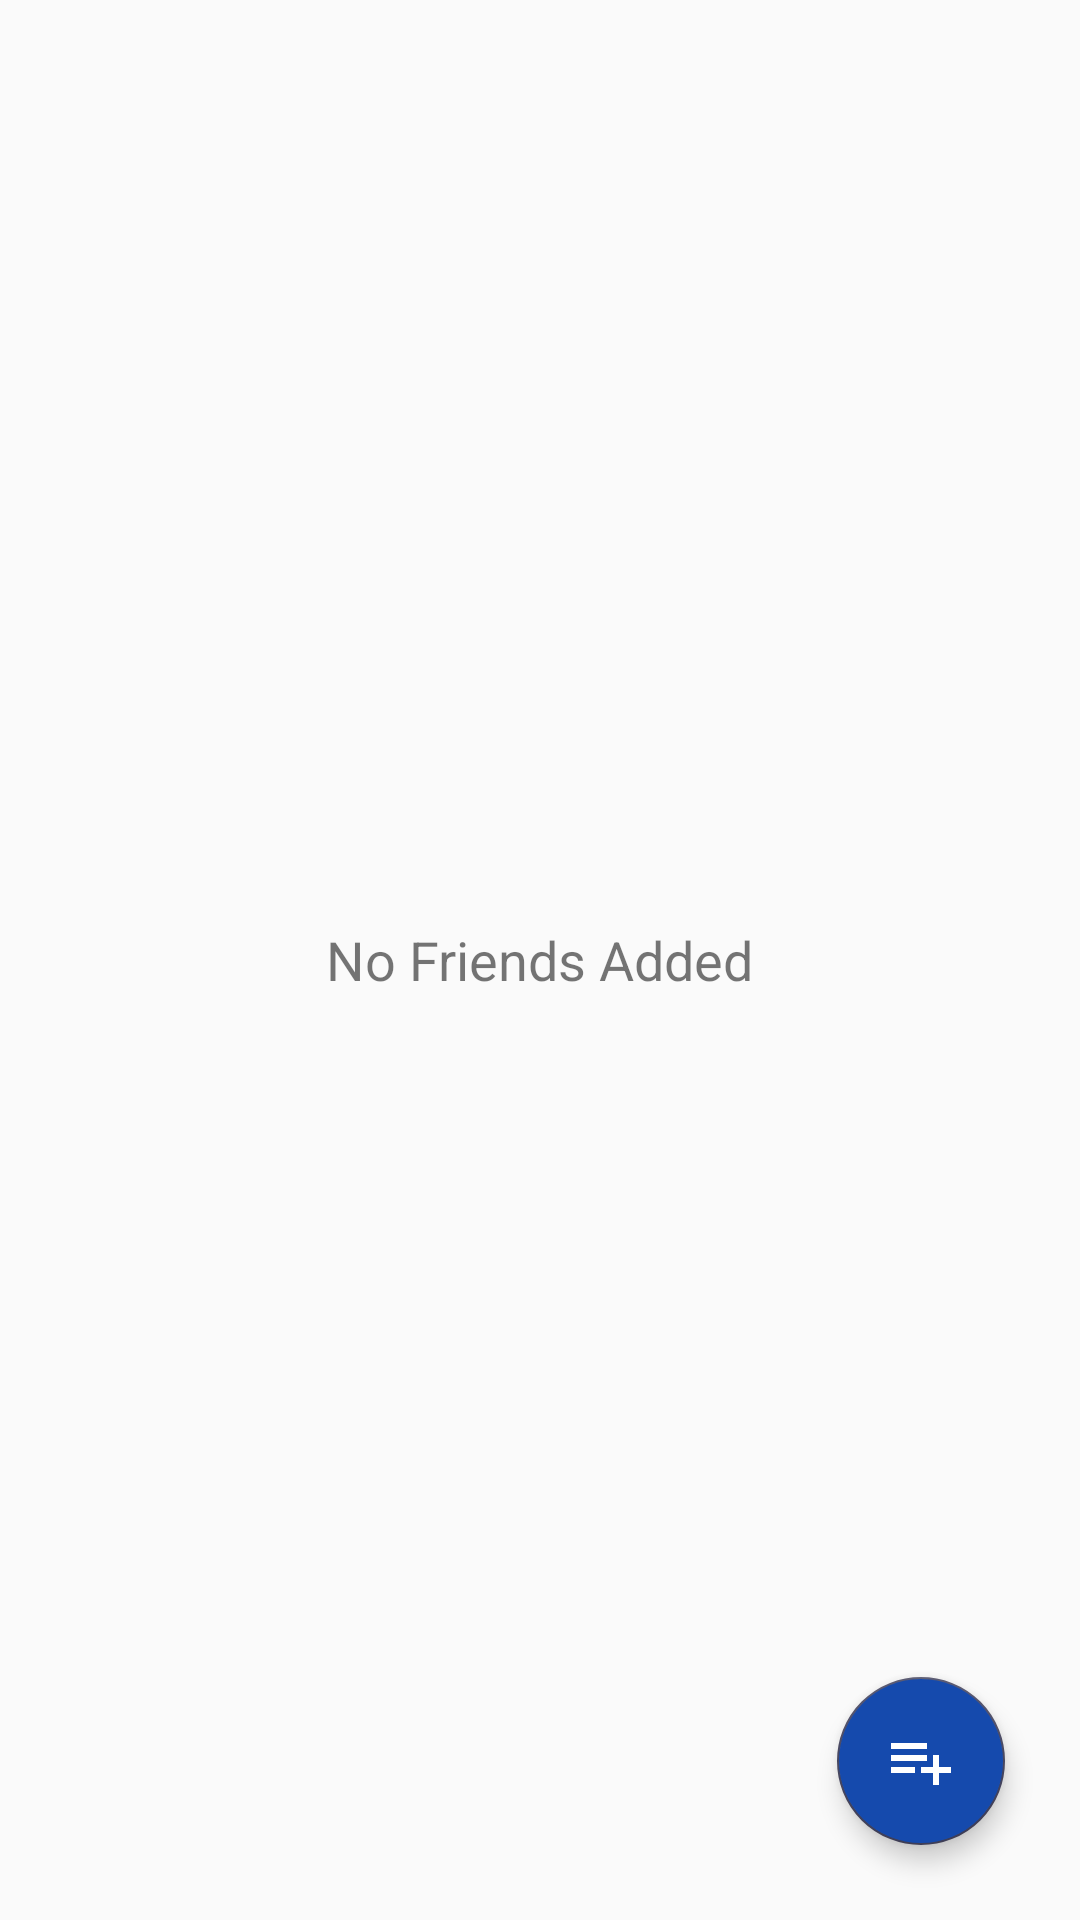

Icon click points for this 1080*1920 phone screenshot, format (x=x, y=y):
playlist add: (x=921, y=1761)
